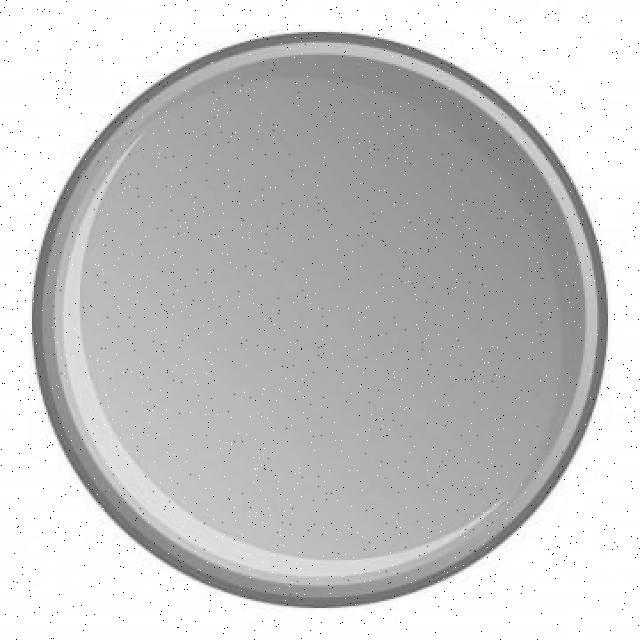Circle: (28, 30, 613, 613)
